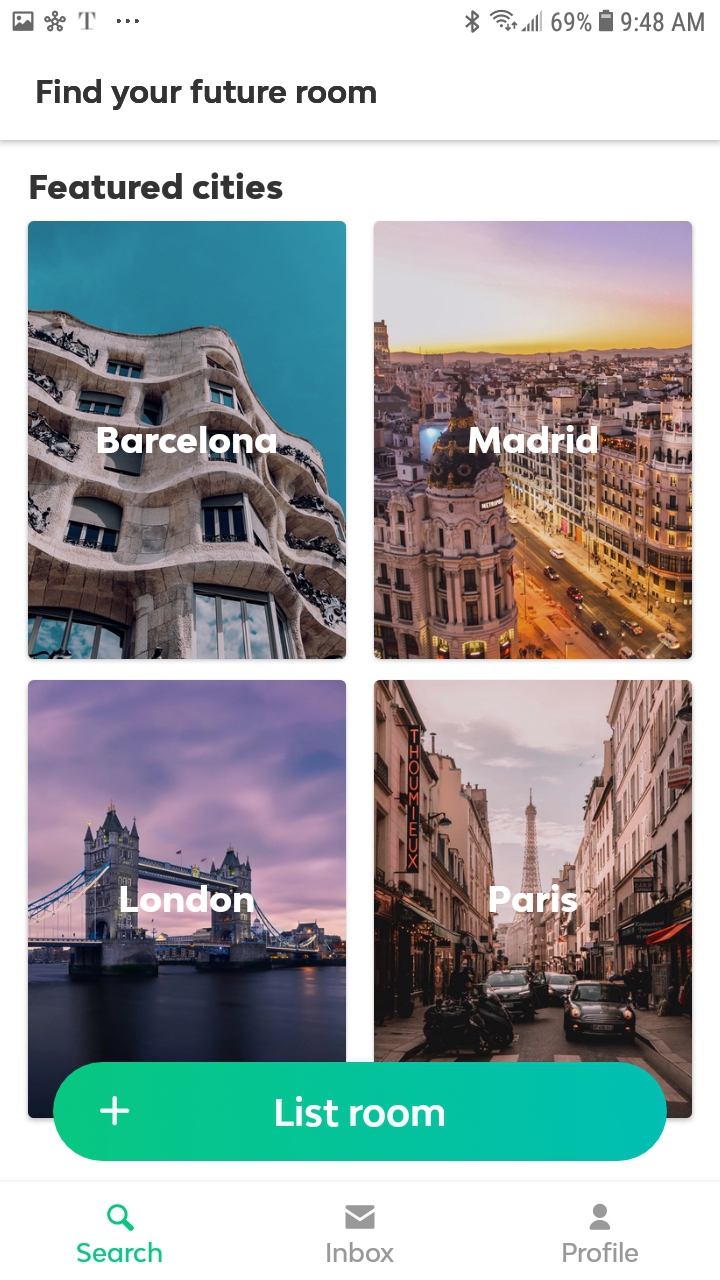Icon: (107, 1204, 135, 1232), (345, 1205, 376, 1230), (589, 1204, 611, 1231)
Image: (28, 221, 347, 661), (28, 679, 347, 1118), (373, 221, 692, 660), (375, 680, 693, 1119)
Text: (37, 79, 378, 112), (30, 172, 284, 201), (98, 426, 278, 454), (120, 884, 255, 913), (468, 425, 598, 455), (489, 883, 578, 913), (77, 1242, 163, 1263), (563, 1242, 639, 1263), (326, 1242, 395, 1263)
TextButton: (53, 1061, 667, 1161)
UpperTaskBar: (1, 1, 720, 34)
